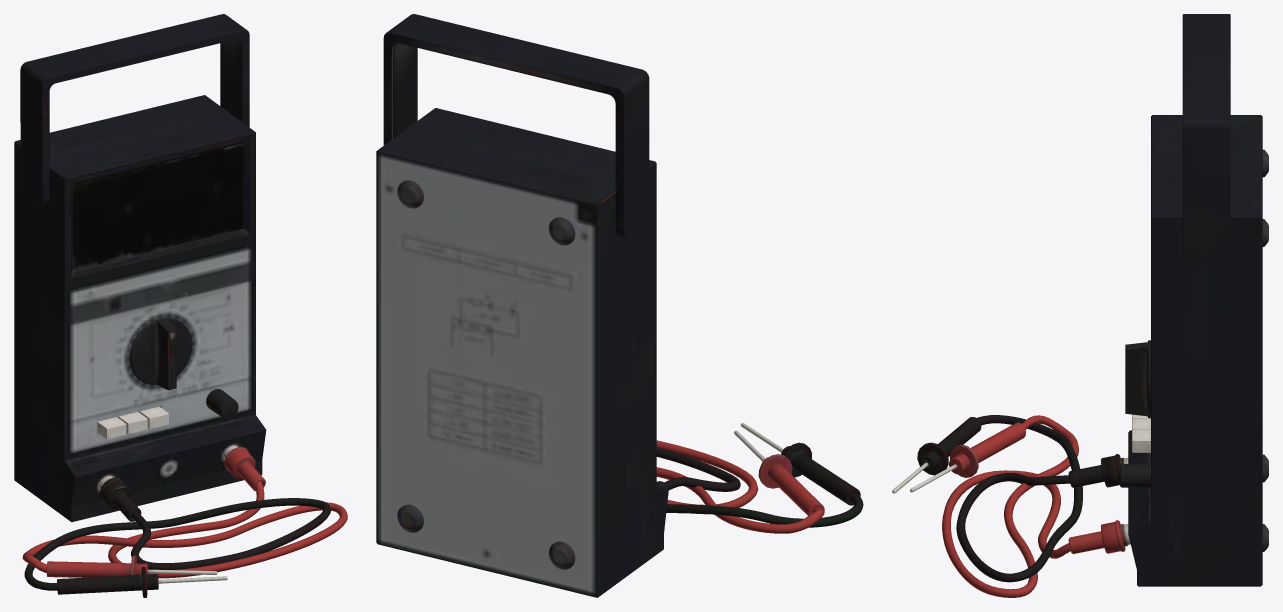
Rendered from multimeter.glb.
3 renders of one model, left to right at view 1: azimuth 30°, elevation 25°; view 2: azimuth 150°, elevation 25°; view 3: azimuth 270°, elevation 25°, orthographic. The views are drawn at different scales.
Visible parts, largest first — view 1: retro_multimeter_LOD0; view 2: retro_multimeter_LOD0; view 3: retro_multimeter_LOD0.
Part boxes in pixels (bbox=[...]): retro_multimeter_LOD0: bbox=[14, 14, 347, 597]; retro_multimeter_LOD0: bbox=[376, 14, 863, 597]; retro_multimeter_LOD0: bbox=[892, 14, 1268, 597].
Size of the model in its own units: 0.216 by 0.2786 by 0.2026.
2 materials, 2 textured.
